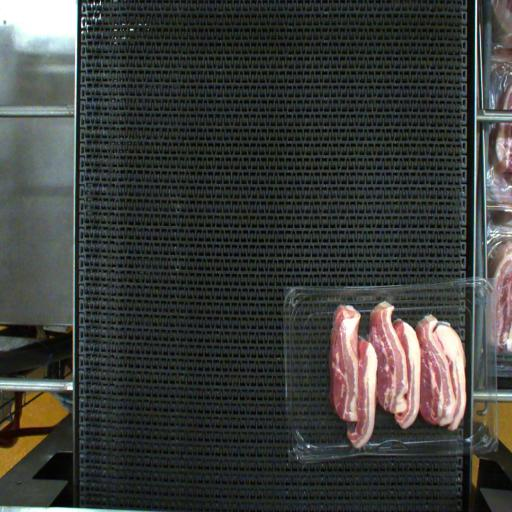packaging-error: (322, 284, 415, 325)
